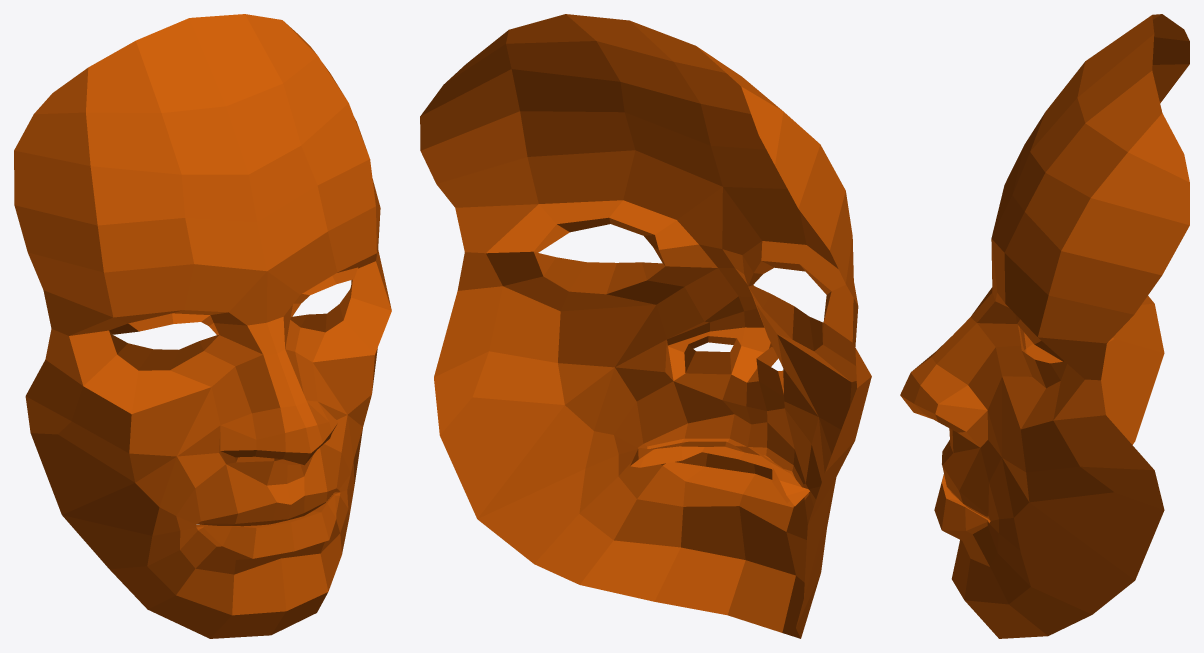
Rendered from pascal.obj.
3 renders of one model, left to right at view 1: azimuth 30°, elevation 25°; view 2: azimuth 150°, elevation 25°; view 3: azimuth 270°, elevation 25°, orthographic. The views are drawn at different scales.
Parts seen in each view (by area): view 1: pascalle_Untitled; view 2: pascalle_Untitled; view 3: pascalle_Untitled.
Part boxes in pixels (left/top/right/bottom): pascalle_Untitled: left=14, top=14, right=391, bottom=638; pascalle_Untitled: left=420, top=14, right=871, bottom=638; pascalle_Untitled: left=900, top=14, right=1189, bottom=638.
Size of the model in its own units: 2.45 by 3.81 by 1.72.
